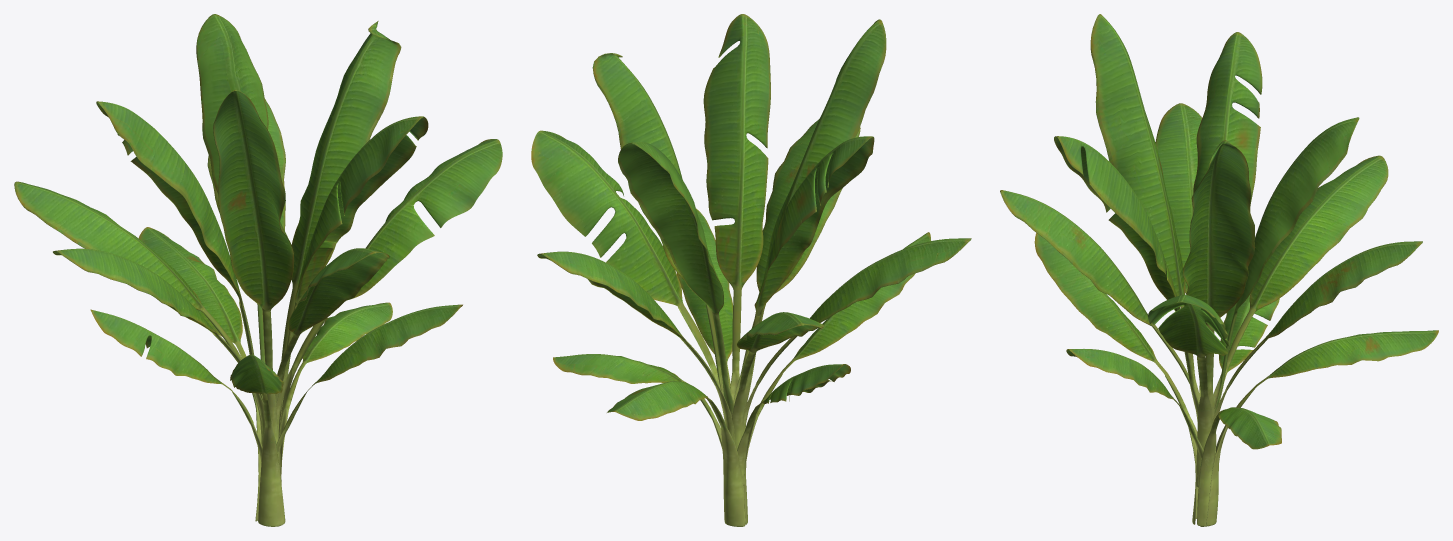
File: banana-tree.glb
3 views of the same model, side by side, from view 1: azimuth 30°, elevation 25°; view 2: azimuth 150°, elevation 25°; view 3: azimuth 270°, elevation 25° (orthographic). The views are drawn at different scales.
Parts seen in each view (by area): view 1: Object_4; view 2: Object_4; view 3: Object_4.
Part boxes in pixels (<box>): Object_4: <box>14,14,502,526</box>; Object_4: <box>531,14,971,526</box>; Object_4: <box>1000,14,1438,526</box>.
Bounding box in the file's own units: 24.29 × 26.16 × 22.22.
1 material, 1 textured.
